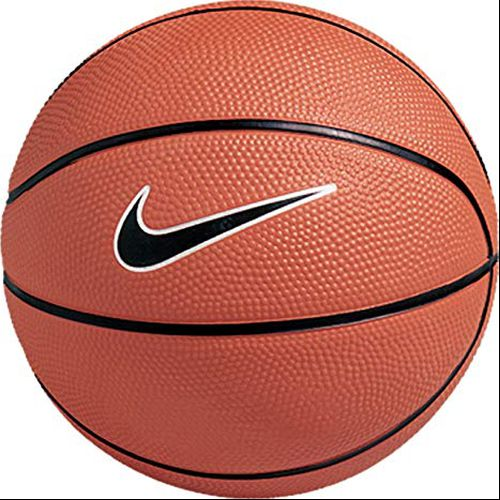ball: (4, 8, 488, 491)
